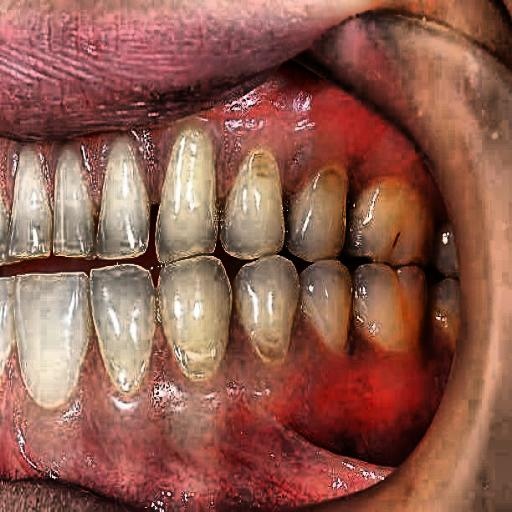Gingivitis: (2, 341, 438, 480), (197, 86, 445, 212)
